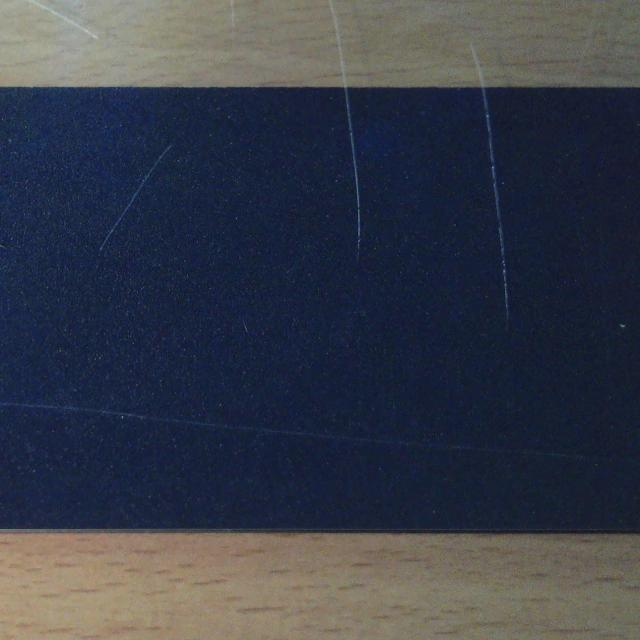defect: (0, 400, 635, 465), (87, 128, 184, 270), (471, 88, 524, 335), (335, 87, 370, 269)
